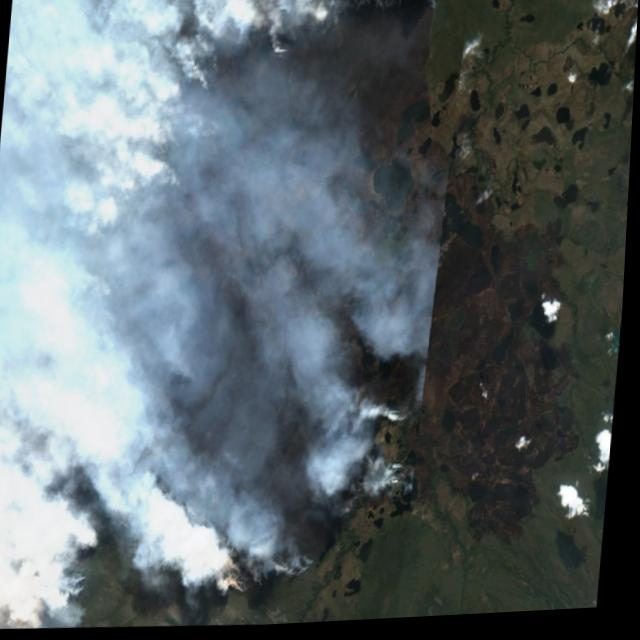fire: (0, 315, 435, 640), (87, 0, 459, 238)
